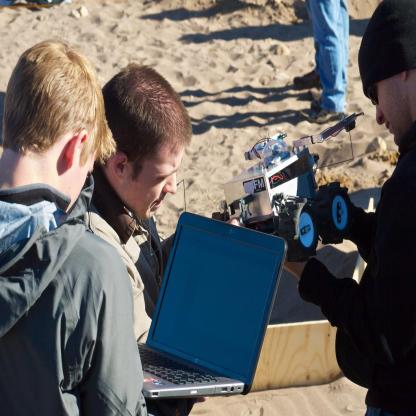board: (132, 209, 282, 410)
